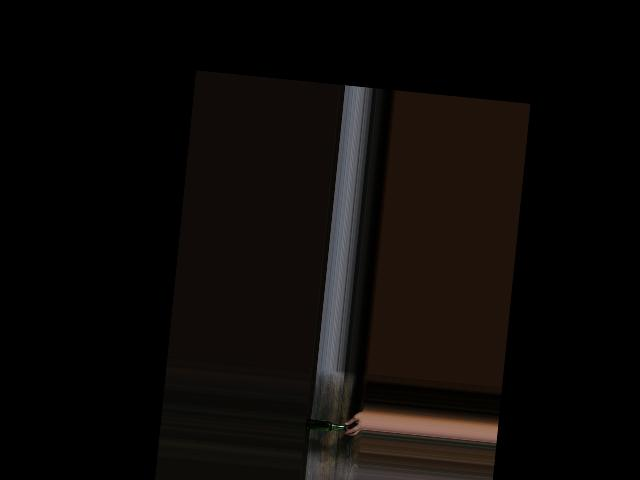beer: (305, 418, 347, 433)
